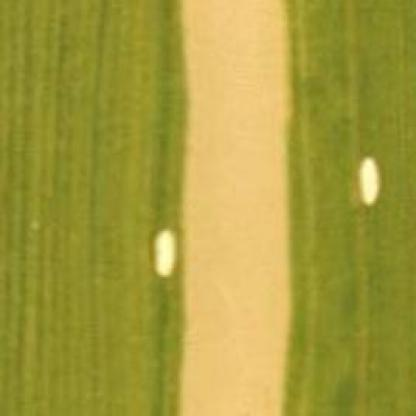whorl-maggot: (350, 154, 387, 209), (150, 224, 180, 280)
